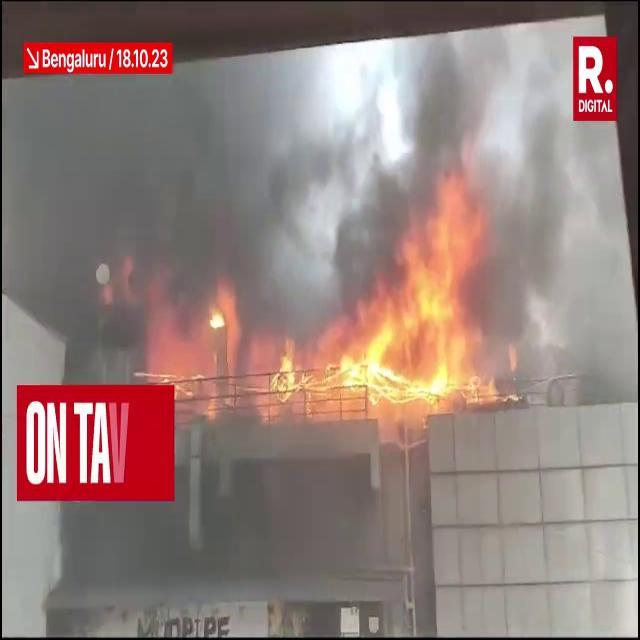Fire: (156, 280, 507, 413)
Smoke: (4, 72, 602, 327)
